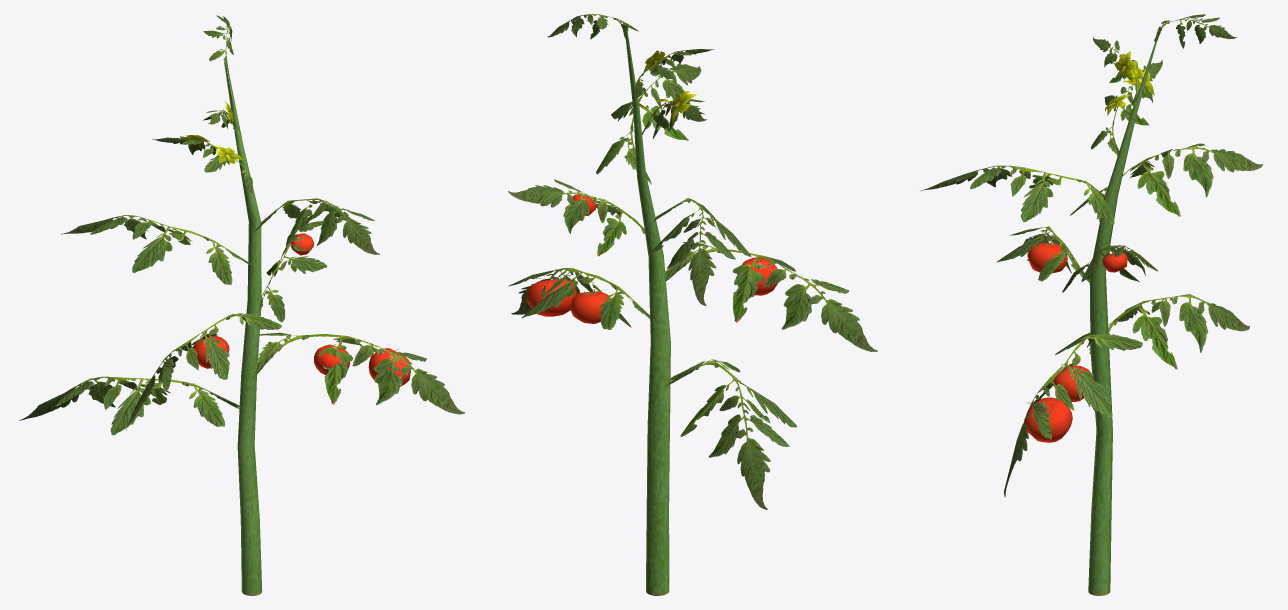
File: tomato_plant.glb
3 renders of one model, left to right at view 1: azimuth 30°, elevation 25°; view 2: azimuth 150°, elevation 25°; view 3: azimuth 270°, elevation 25°, orthographic. The views are drawn at different scales.
Parts seen in each view (by area): view 1: Object_2; view 2: Object_2; view 3: Object_2.
Part boxes in pixels (x1=…): Object_2: x1=19, y1=15, x2=464, y2=595; Object_2: x1=508, y1=14, x2=877, y2=595; Object_2: x1=920, y1=14, x2=1262, y2=595.
Bounding box in the file's own units: 0.665 × 1 × 0.5653.
1 material, 1 textured.
